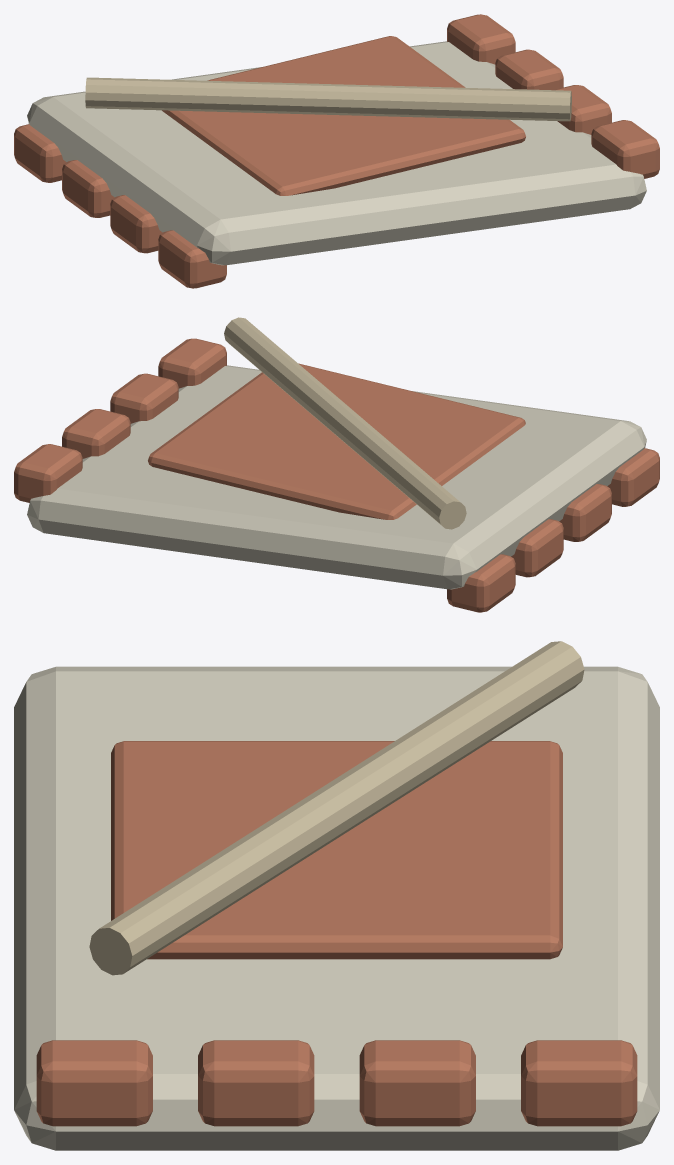
The model's file is wrapper.glb.
The picture shows the model from 3 angles, top to bottom: view 1: azimuth 30°, elevation 25°; view 2: azimuth 150°, elevation 25°; view 3: azimuth 270°, elevation 25°; orthographic projection. The views are drawn at different scales.
Visible parts, largest first — view 1: Trash_surface; view 2: Trash_surface; view 3: Trash_surface.
Part boxes in pixels (x1,y1,x2,y2): Trash_surface: (14,14,659,288); Trash_surface: (14,317,659,612); Trash_surface: (14,641,659,1150).
Bounding box in the file's own units: 0.285 × 0.0651 × 0.2.
